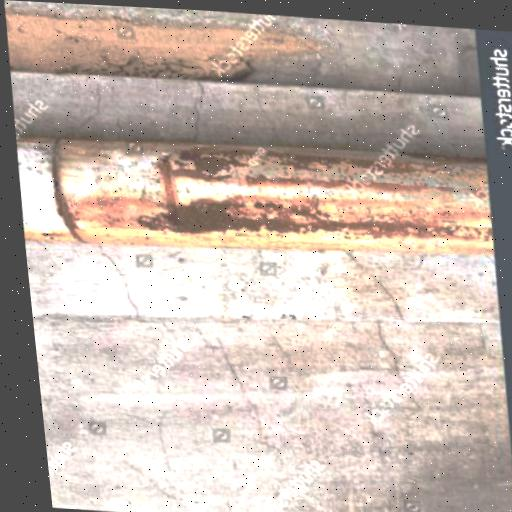corrosion: (41, 135, 498, 266)
